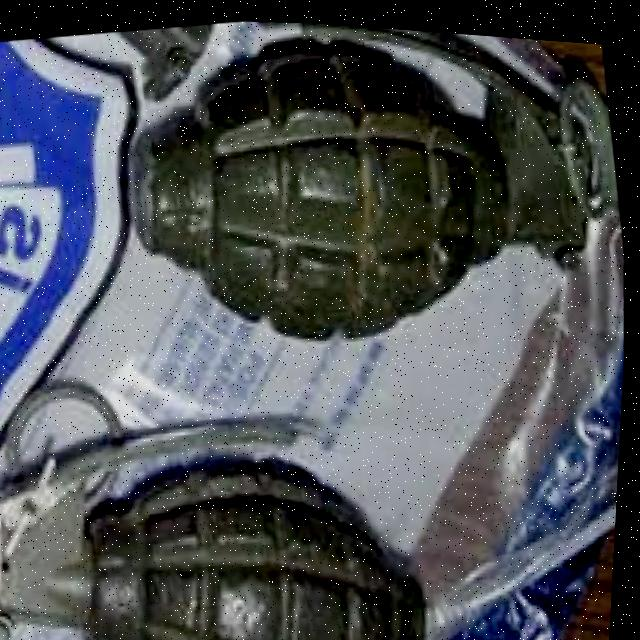grenade: (89, 6, 638, 395), (0, 325, 476, 640)
